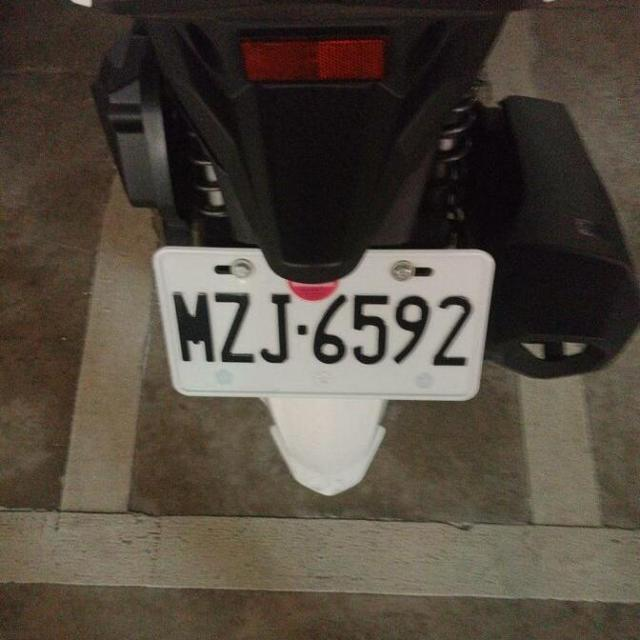W: (145, 233, 501, 410)
